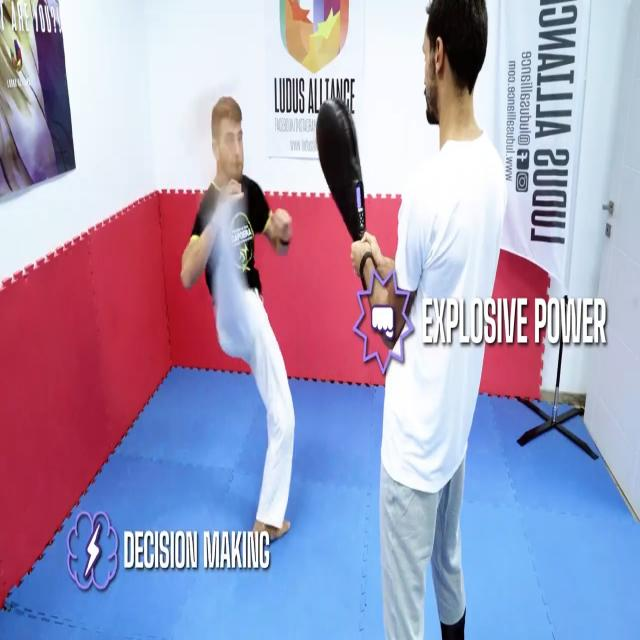paddle: (316, 95, 368, 245)
